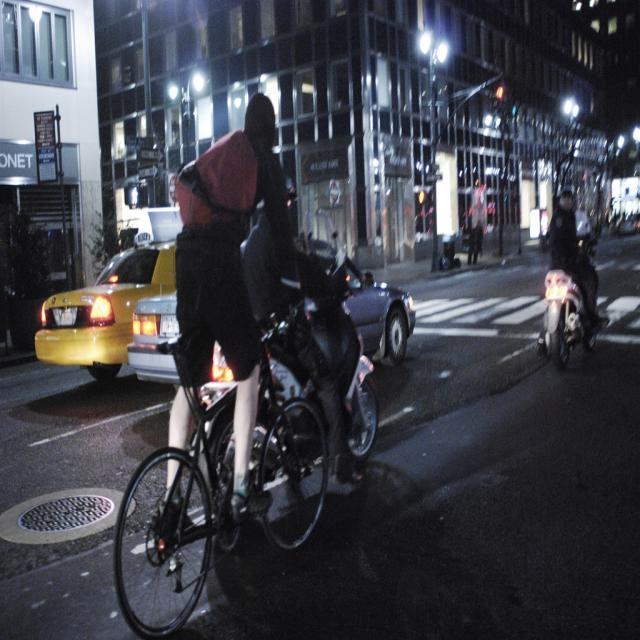Bicycle: (93, 353, 327, 628), (243, 285, 376, 544)
Motorbike: (497, 260, 635, 382)
People: (203, 90, 308, 452), (547, 182, 594, 280)
car: (210, 227, 419, 369), (33, 243, 194, 369)
